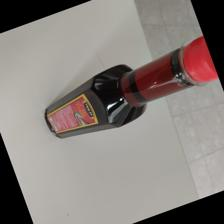Namngu: (43, 35, 224, 139)
